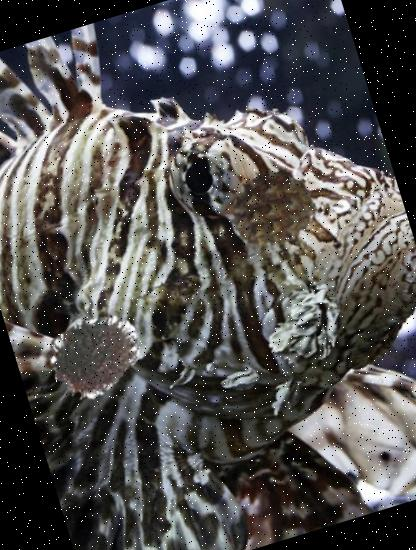Pineapple: (217, 153, 326, 262)
Rambutan: (38, 296, 155, 412)
